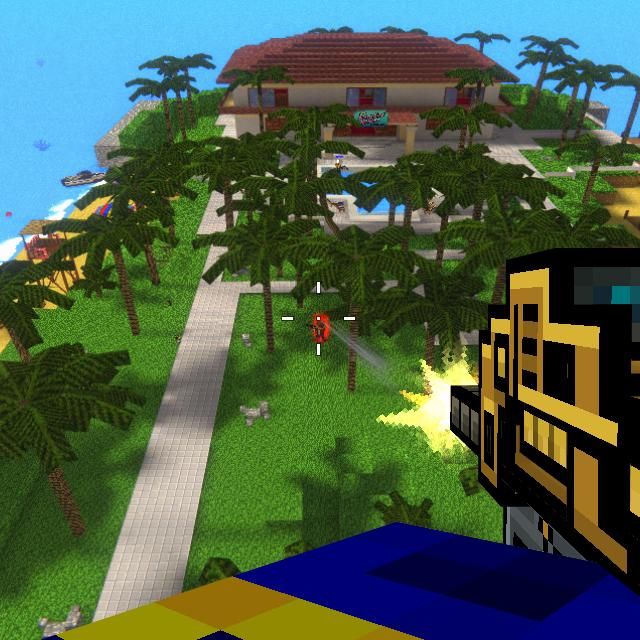Enemy: (313, 320, 327, 340)
